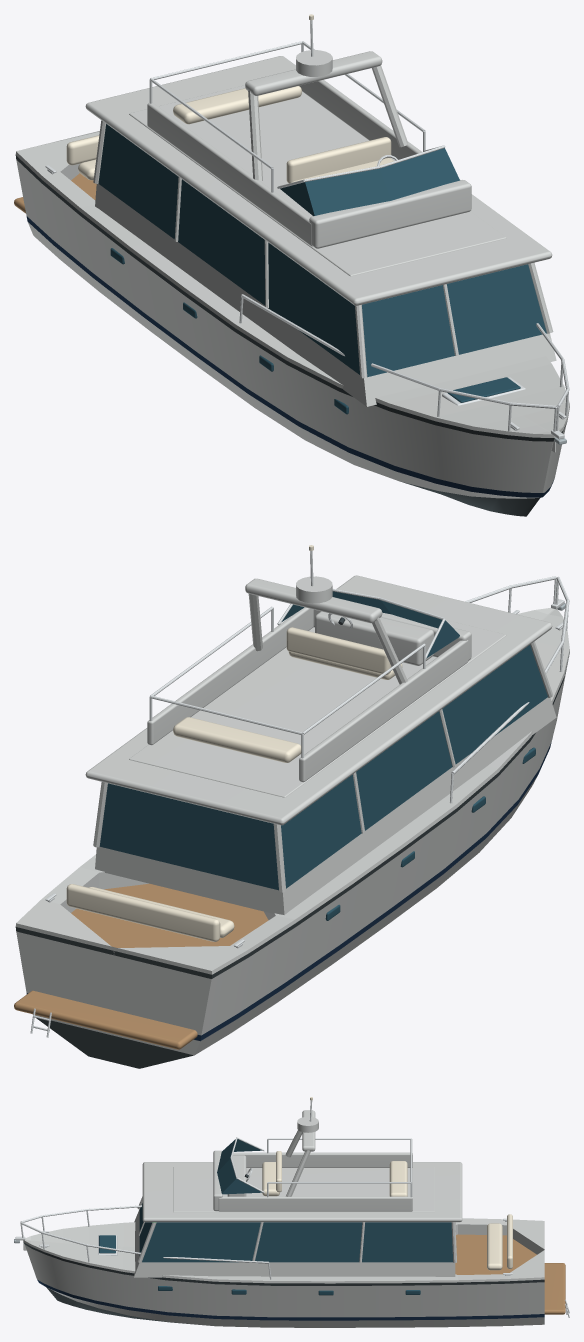
The model's file is flybridge_yacht.glb.
3 renders of one model, top to bottom at view 1: azimuth 30°, elevation 25°; view 2: azimuth 150°, elevation 25°; view 3: azimuth 270°, elevation 25°, orthographic. The views are drawn at different scales.
Visible parts, largest first — view 1: flybridge_yacht; view 2: flybridge_yacht; view 3: flybridge_yacht.
Part boxes in pixels (left/top/right/bottom): flybridge_yacht: left=14, top=14, right=569, bottom=516; flybridge_yacht: left=14, top=545, right=569, bottom=1068; flybridge_yacht: left=14, top=1097, right=569, bottom=1327.
Size of the model in its own units: 4.45 by 7.09 by 16.25.
